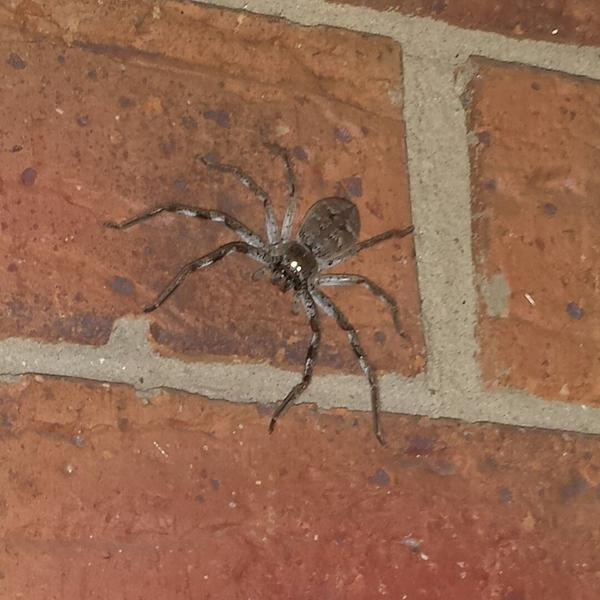Huntsman Spider: (125, 151, 412, 426)
